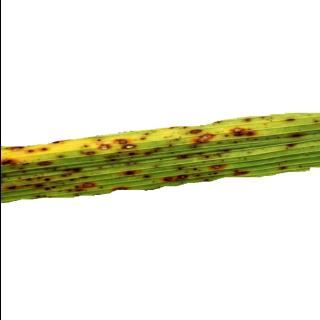bercak-Cokelat: (0, 113, 320, 203)
